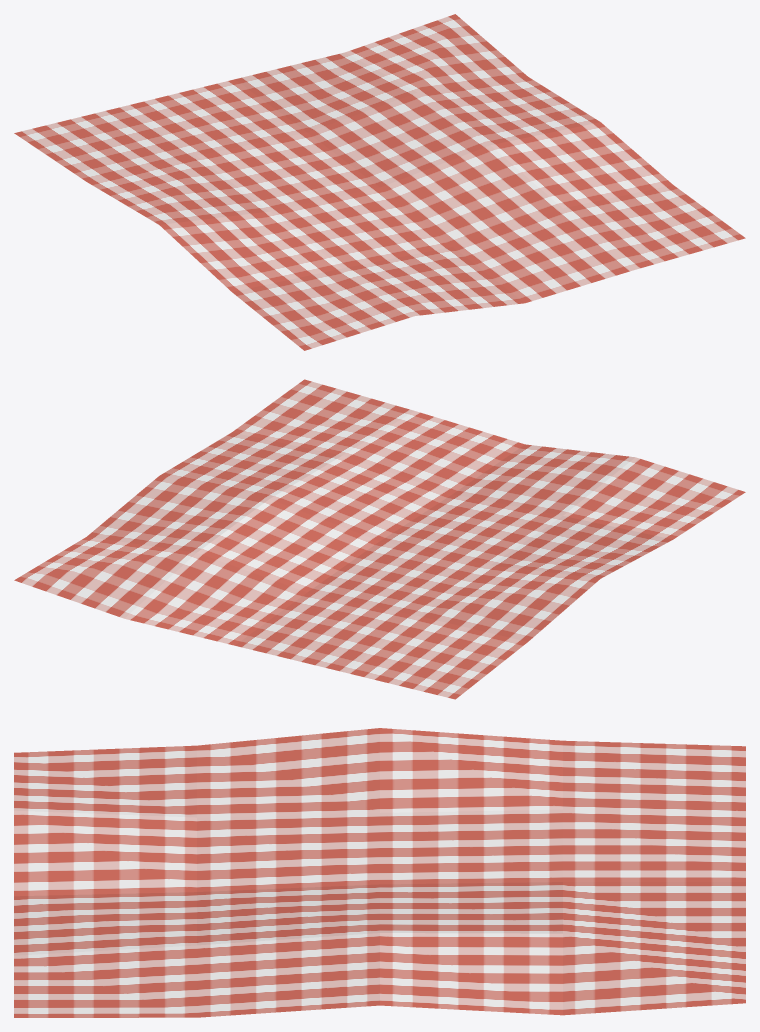
Rendered from SM_Picnic_Blanket 1.fbx.
3 renders of one model, top to bottom at view 1: azimuth 30°, elevation 25°; view 2: azimuth 150°, elevation 25°; view 3: azimuth 270°, elevation 25°, orthographic. The views are drawn at different scales.
Parts seen in each view (by area): view 1: Plane; view 2: Plane; view 3: Plane.
Part boxes in pixels (x1,y1,x2,y2): Plane: (14, 14, 745, 350); Plane: (14, 379, 745, 699); Plane: (14, 728, 745, 1017).
Size of the model in its own units: 200 by 11.19 by 228.
